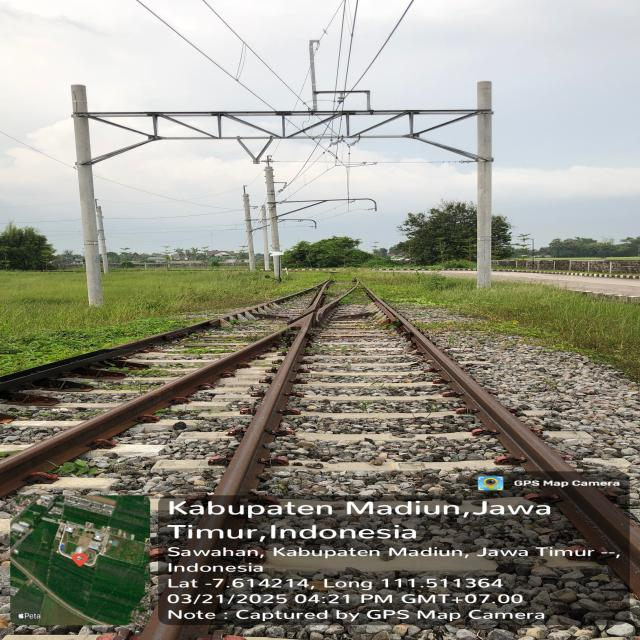rail-detection: (368, 291, 640, 596), (142, 319, 312, 640), (0, 327, 288, 495), (0, 301, 275, 390)
